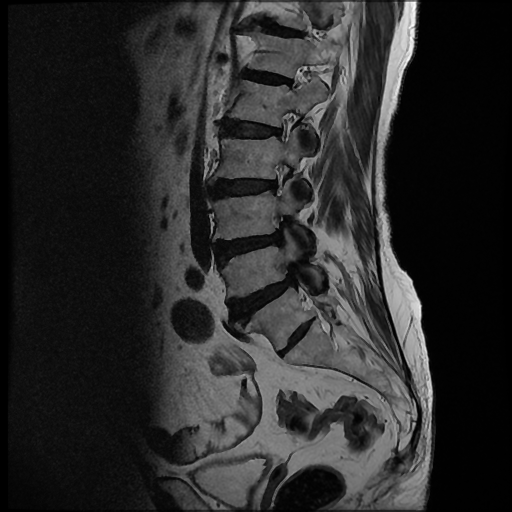RFS0: (268, 99, 304, 154), (262, 156, 300, 206)
